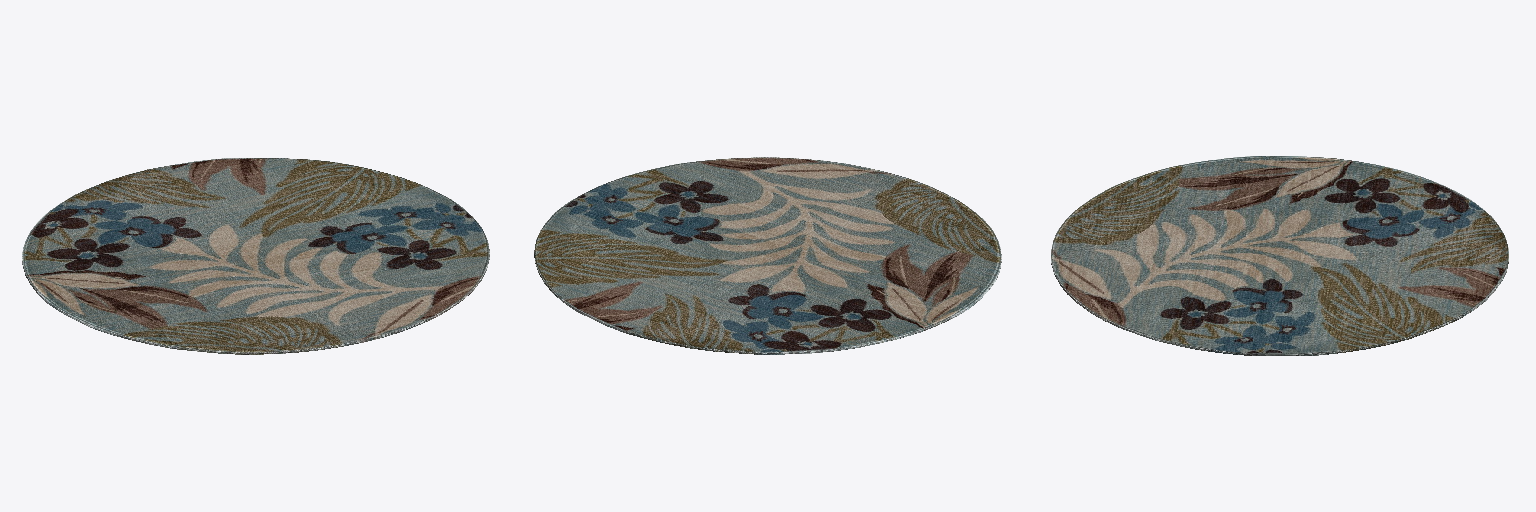
3 renders of one model, left to right at view 1: azimuth 30°, elevation 25°; view 2: azimuth 150°, elevation 25°; view 3: azimuth 270°, elevation 25°, orthographic.
Visible parts, largest first — view 1: Fun_with_Phonics_Oval_FLAT_Untitled.012; view 2: Fun_with_Phonics_Oval_FLAT_Untitled.012; view 3: Fun_with_Phonics_Oval_FLAT_Untitled.012.
Boxes of the visible parts, x1,y1,x2,y2 form: Fun_with_Phonics_Oval_FLAT_Untitled.012: [22, 158, 489, 354]; Fun_with_Phonics_Oval_FLAT_Untitled.012: [534, 157, 1001, 354]; Fun_with_Phonics_Oval_FLAT_Untitled.012: [1051, 156, 1508, 355].
Size of the model in its own units: 11.86 by 0.0868 by 11.55.
1 materials, 1 textured.